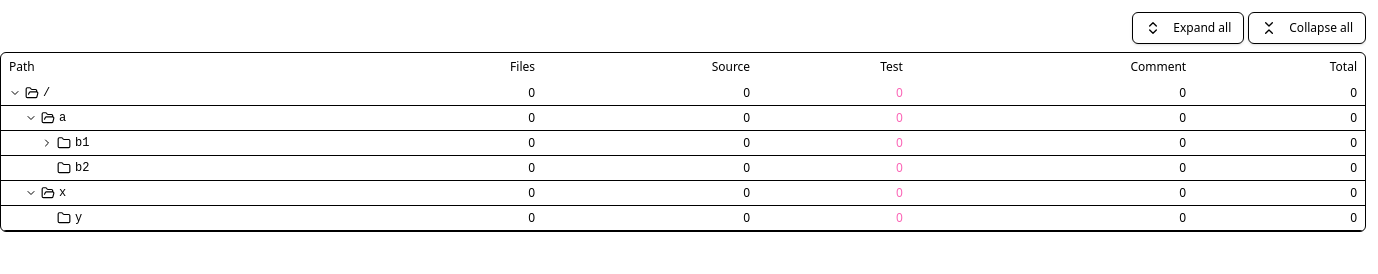
it: directoryTree › expand-all reveals every nested folder; collapse-all keeps only root
The image size is (1378, 274).
expect the text "c1" is not shown: met
What coordinates should you click on to do the following:
click the button "Expand all"
I would click on:
 (1188, 28)
Its box is [1132,12,1244,44].
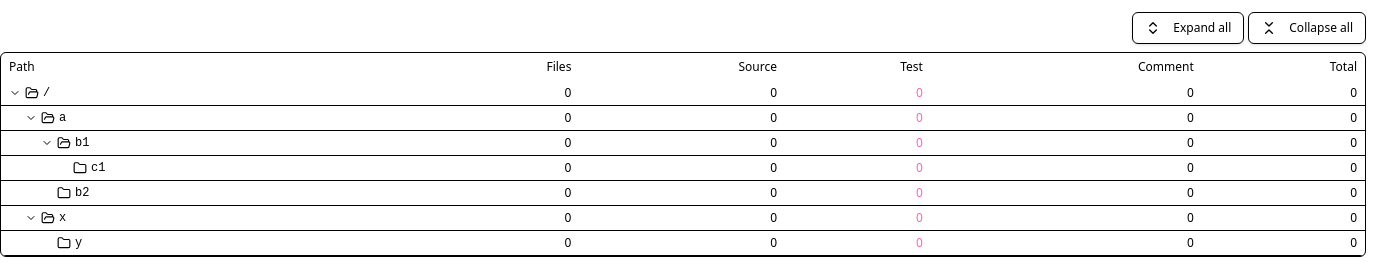
expect the text "a" is shown: met, box [59,110,66,126]
expect the text "c1" is shown: met, box [91,160,105,176]
What coordinates should you click on to do the following:
click the button "Collapse all"
I would click on:
 (1307, 28)
Its box is [1248,12,1366,44].
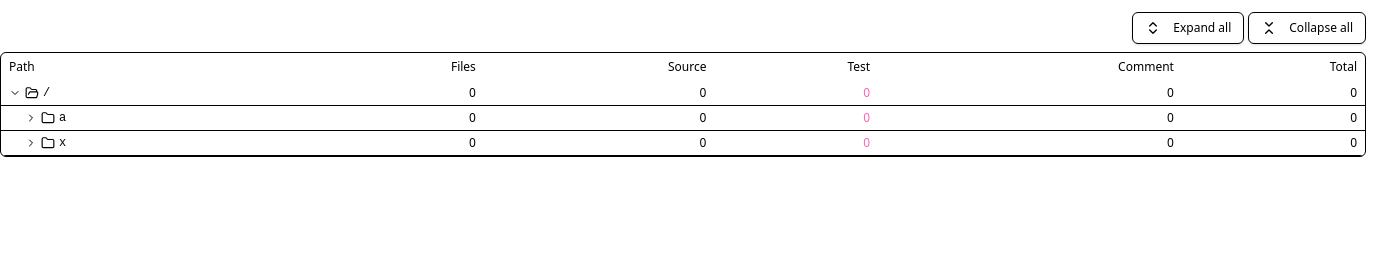
expect the button "b1" is gone: met
expect the button "b2" is gone: met
expect the button "c1" is gone: met
